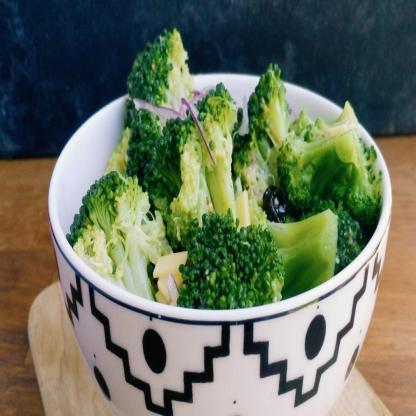broccoli: (66, 22, 384, 314)
